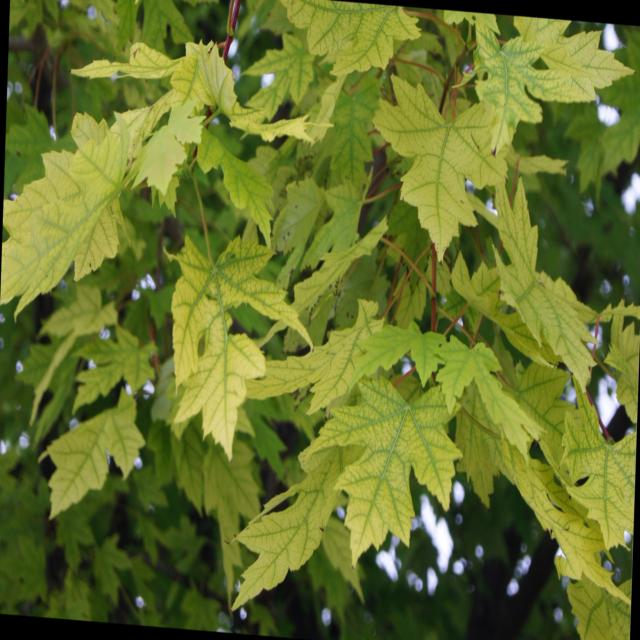Chlorosis: (16, 40, 612, 551)
